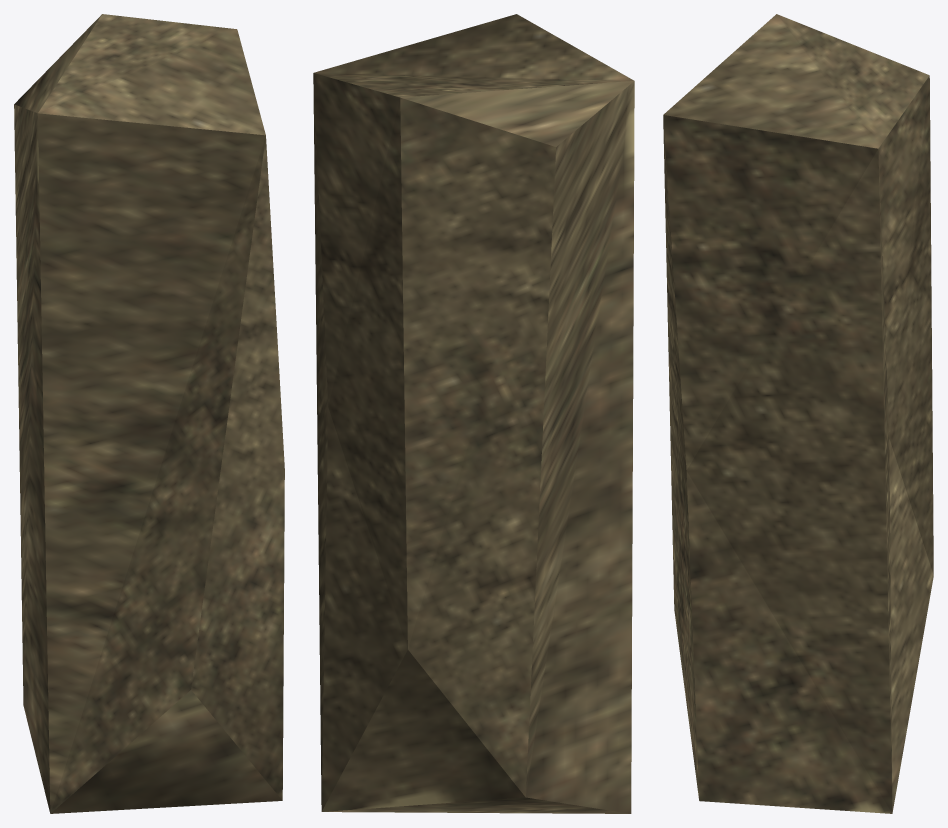
The model's file is CaveWalls1_A_COL.obj.
3 renders of one model, left to right at view 1: azimuth 30°, elevation 25°; view 2: azimuth 150°, elevation 25°; view 3: azimuth 270°, elevation 25°, orthographic. The views are drawn at different scales.
Parts seen in each view (by area): view 1: CaveWalls1_A.001; view 2: CaveWalls1_A.001; view 3: CaveWalls1_A.001.
Boxes of the visible parts, x1,y1,x2,y2 form: CaveWalls1_A.001: (14, 14, 284, 813); CaveWalls1_A.001: (313, 14, 634, 813); CaveWalls1_A.001: (663, 14, 933, 813).
Size of the model in its own units: 11.8 by 32.04 by 11.29.
Materials: 1 (1 with a texture image).
